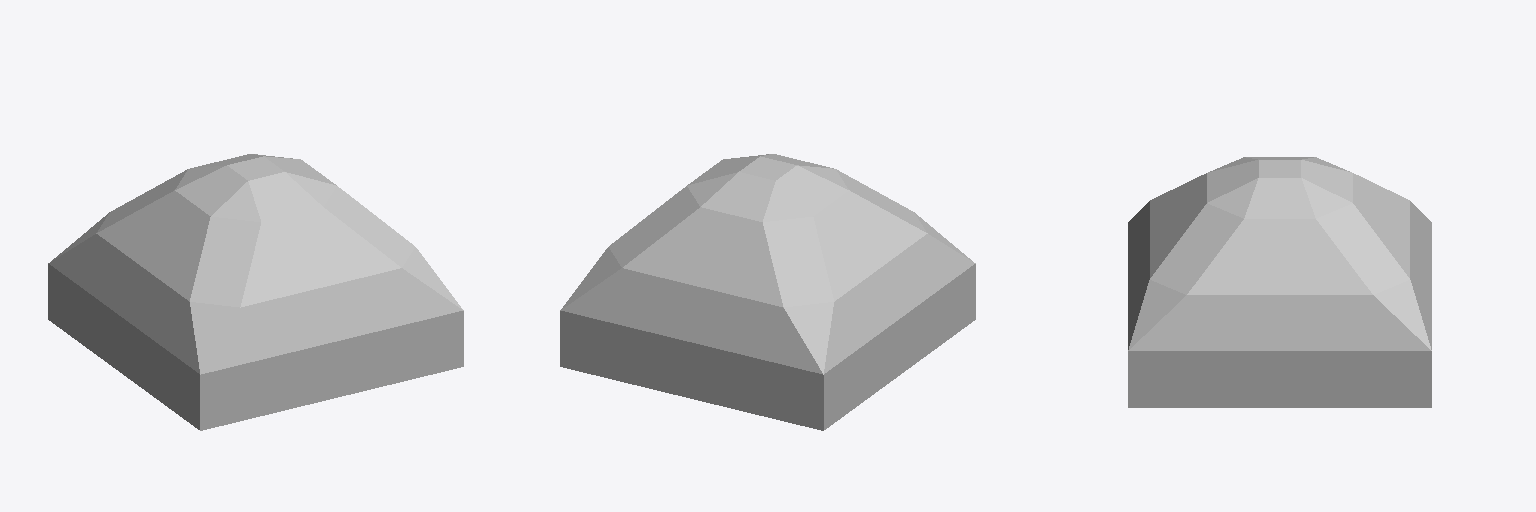
The model's file is shell.obj.
3 renders of one model, left to right at view 1: azimuth 30°, elevation 25°; view 2: azimuth 150°, elevation 25°; view 3: azimuth 270°, elevation 25°, orthographic.
Parts seen in each view (by area): view 1: Cube; view 2: Cube; view 3: Cube.
Part boxes in pixels (bbox=[...]): Cube: bbox=[48, 154, 463, 430]; Cube: bbox=[560, 154, 975, 430]; Cube: bbox=[1128, 157, 1431, 407].
Bounding box in the file's own units: 2 × 1.27 × 2.